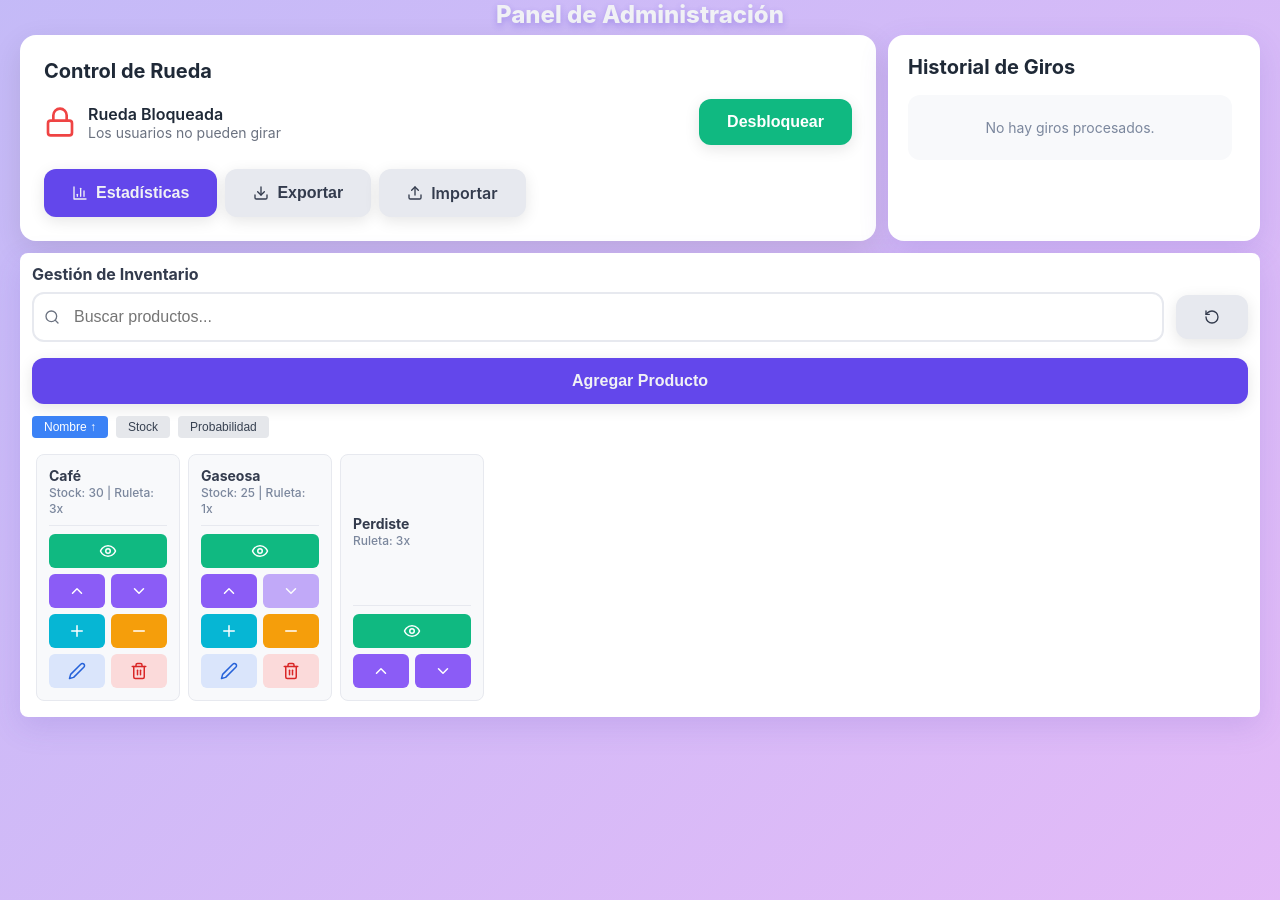
Test: AdminPage › should show statistics when button clicked
The width and height of the screenshot is (1280, 900).
Click the button "Estadísticas".
click(131, 193)  # box [44, 169, 217, 217]
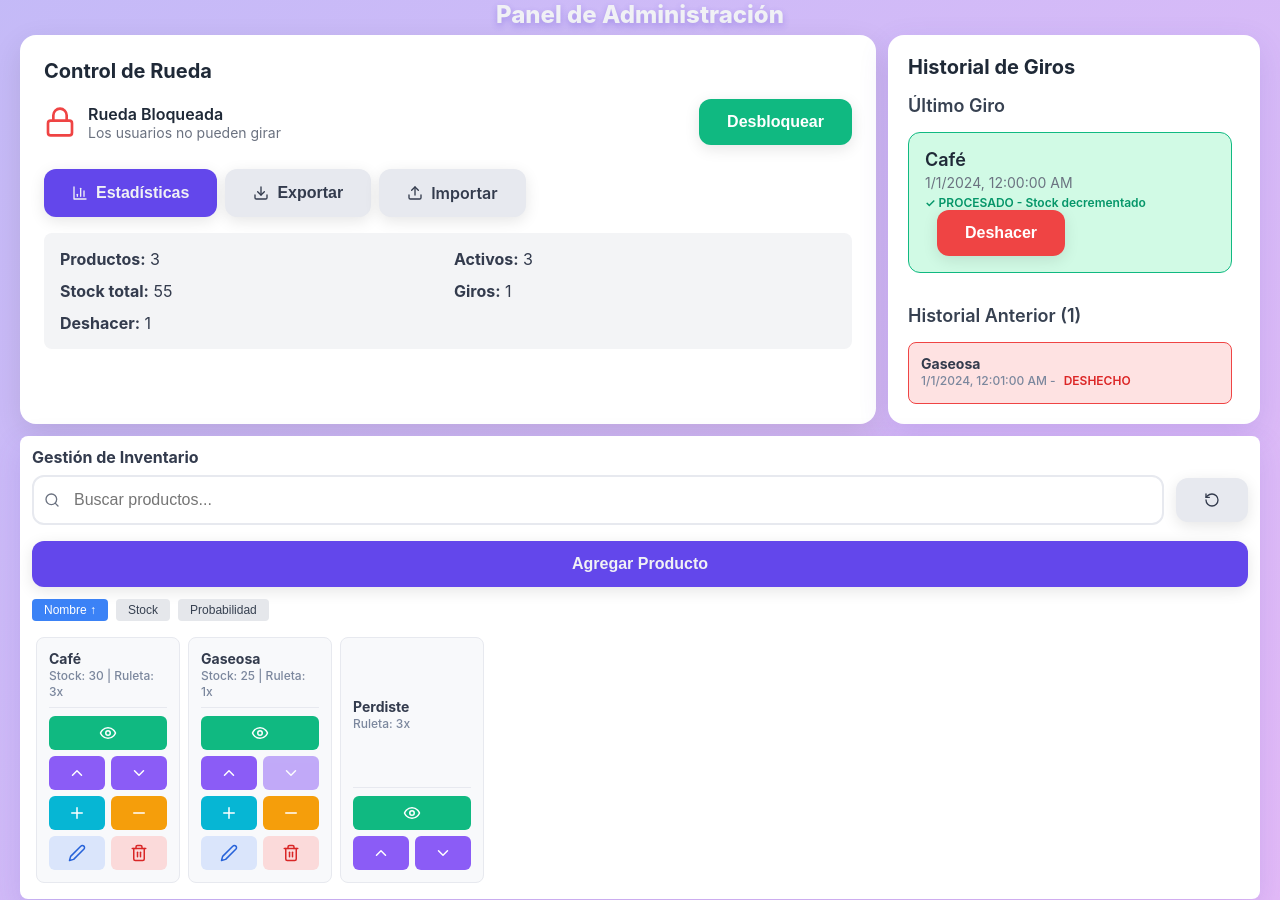
Check: the text "Productos:" is shown, box [60, 249, 146, 269]
